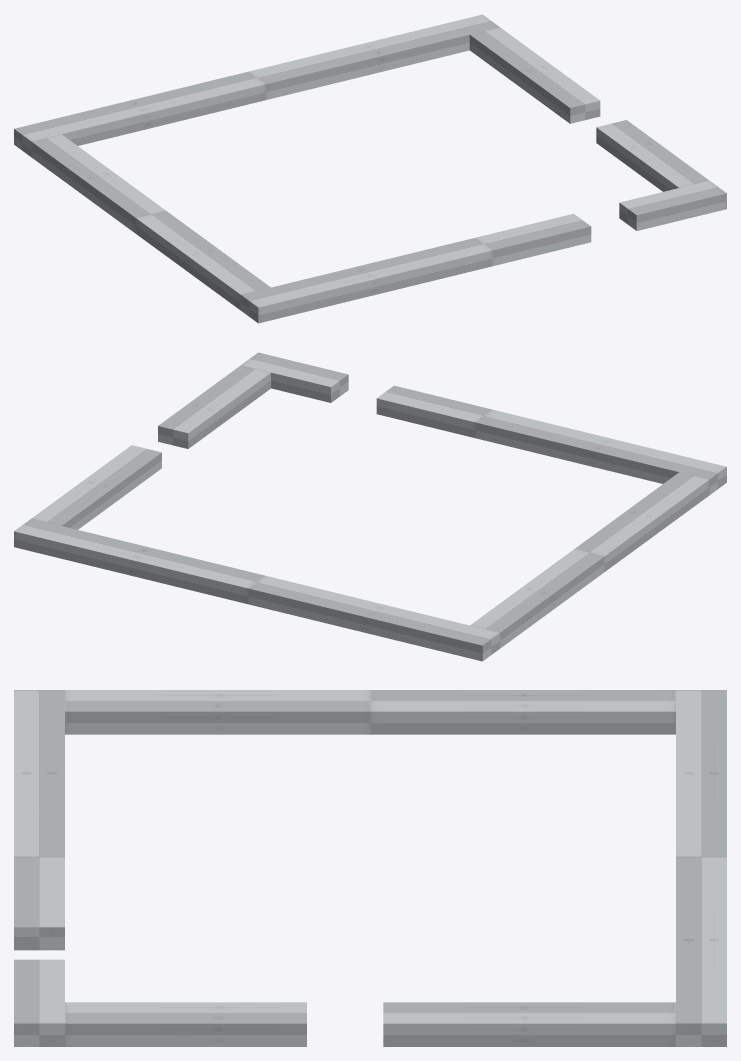
The model's file is BeanWall.gltf.
The picture shows the model from 3 angles, top to bottom: view 1: azimuth 30°, elevation 25°; view 2: azimuth 150°, elevation 25°; view 3: azimuth 270°, elevation 25°; orthographic projection. The views are drawn at different scales.
Visible parts, largest first — view 1: BeanWall22, BeanWall12, BeanWall42, BeanWall32; view 2: BeanWall22, BeanWall12, BeanWall42, BeanWall32; view 3: BeanWall42, BeanWall32, BeanWall22, BeanWall12.
Boxes of the visible parts, x1,y1,x2,y2 form: BeanWall22: (14,14,499,156); BeanWall12: (241,180,726,323); BeanWall42: (31,134,270,310); BeanWall32: (469,27,708,191); BeanWall22: (14,518,499,661); BeanWall12: (241,352,726,494); BeanWall42: (470,472,709,648); BeanWall32: (32,365,270,529); BeanWall42: (65,690,675,734); BeanWall32: (65,1002,675,1046); BeanWall22: (676,690,726,1046); BeanWall12: (14,690,64,1046).
Bounding box in the file's own units: 31 × 1 × 28.
Materials: 1 (1 with a texture image).
